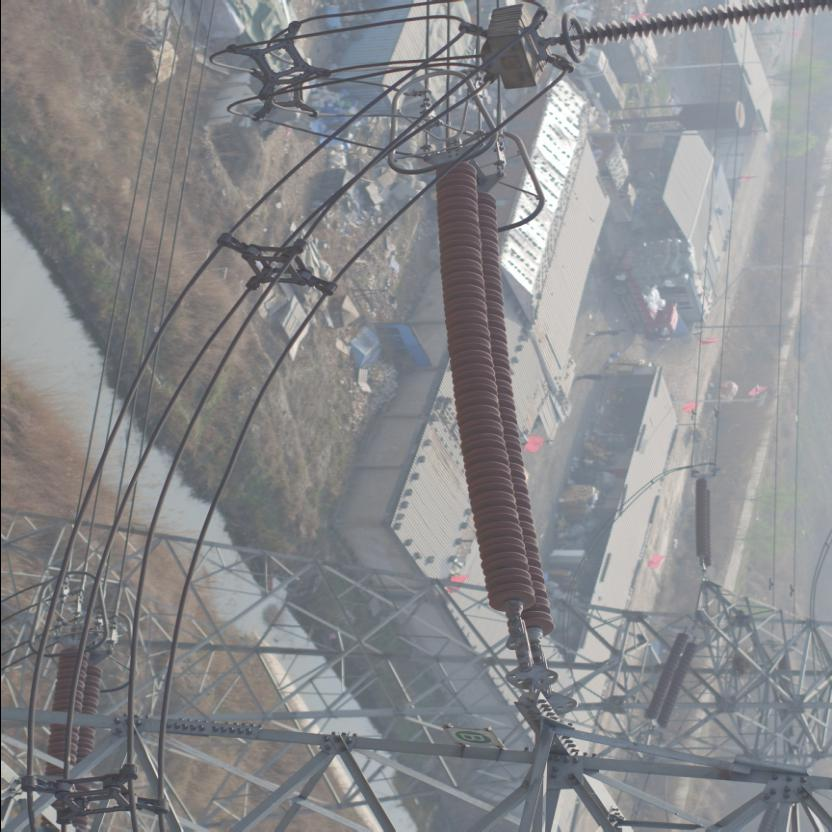insulator: (434, 146, 564, 660)
